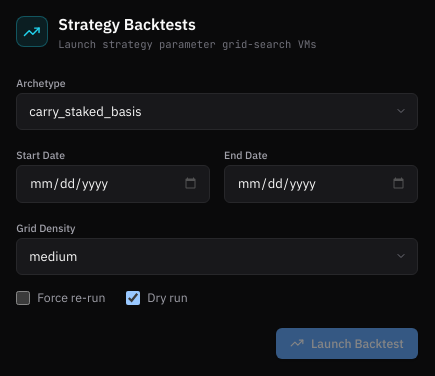
Test: StrategyBacktests › submit button re-enables once both dates are valid
Expected: the button with test id "launch-button" is disabled, 276,328 -> 418,359
Type "2026-01-01" into the date field with test id "start-date-input". click: (113, 184)
box: 16,165 -> 210,202
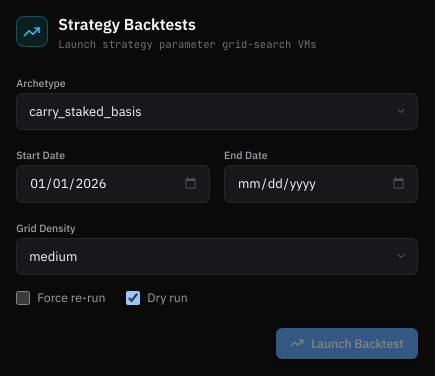
Type "2026-03-31" into the date field with test id "end-date-input". click: (321, 184)
box: 224,165 -> 418,202
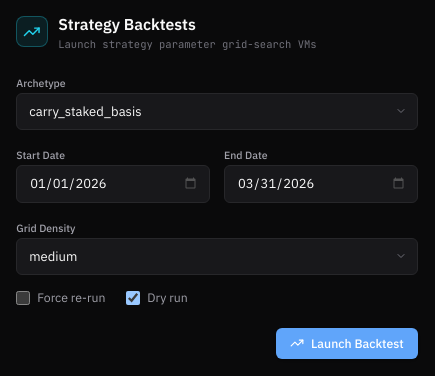
Expected: the button with test id "launch-button" is enabled, 276,328 -> 418,359
